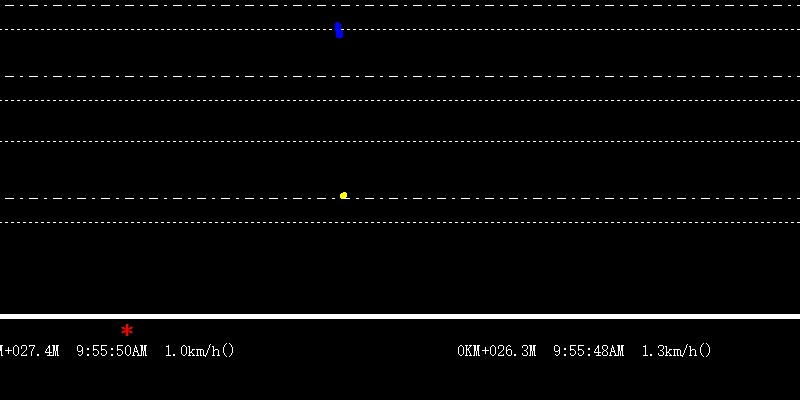face_1: (333, 22, 344, 39)
star: (118, 321, 133, 336)
